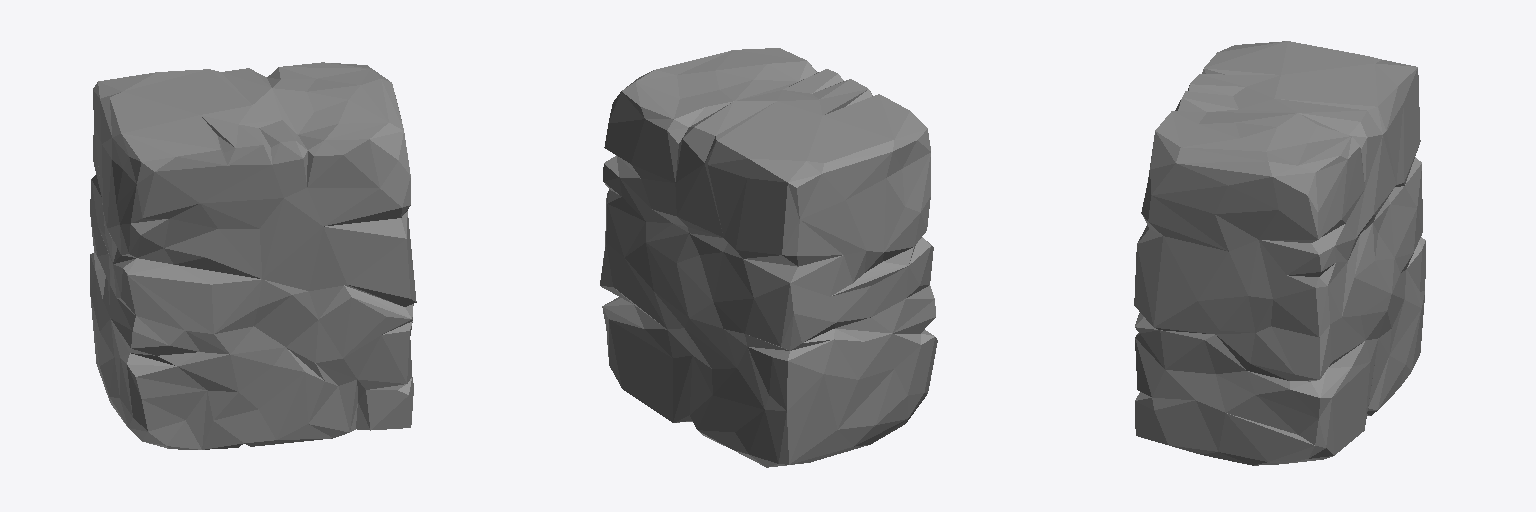
The picture shows the model from 3 angles: view 1: azimuth 30°, elevation 25°; view 2: azimuth 150°, elevation 25°; view 3: azimuth 270°, elevation 25°; orthographic projection.
Parts seen in each view (by area): view 1: rock1_1; view 2: rock1_1; view 3: rock1_1.
Boxes of the visible parts, box(x1,y1,x2,y2) form: rock1_1: box(90, 62, 416, 449); rock1_1: box(600, 48, 937, 467); rock1_1: box(1134, 41, 1425, 465).
Size of the model in its own units: 4.13 by 4.13 by 3.52.